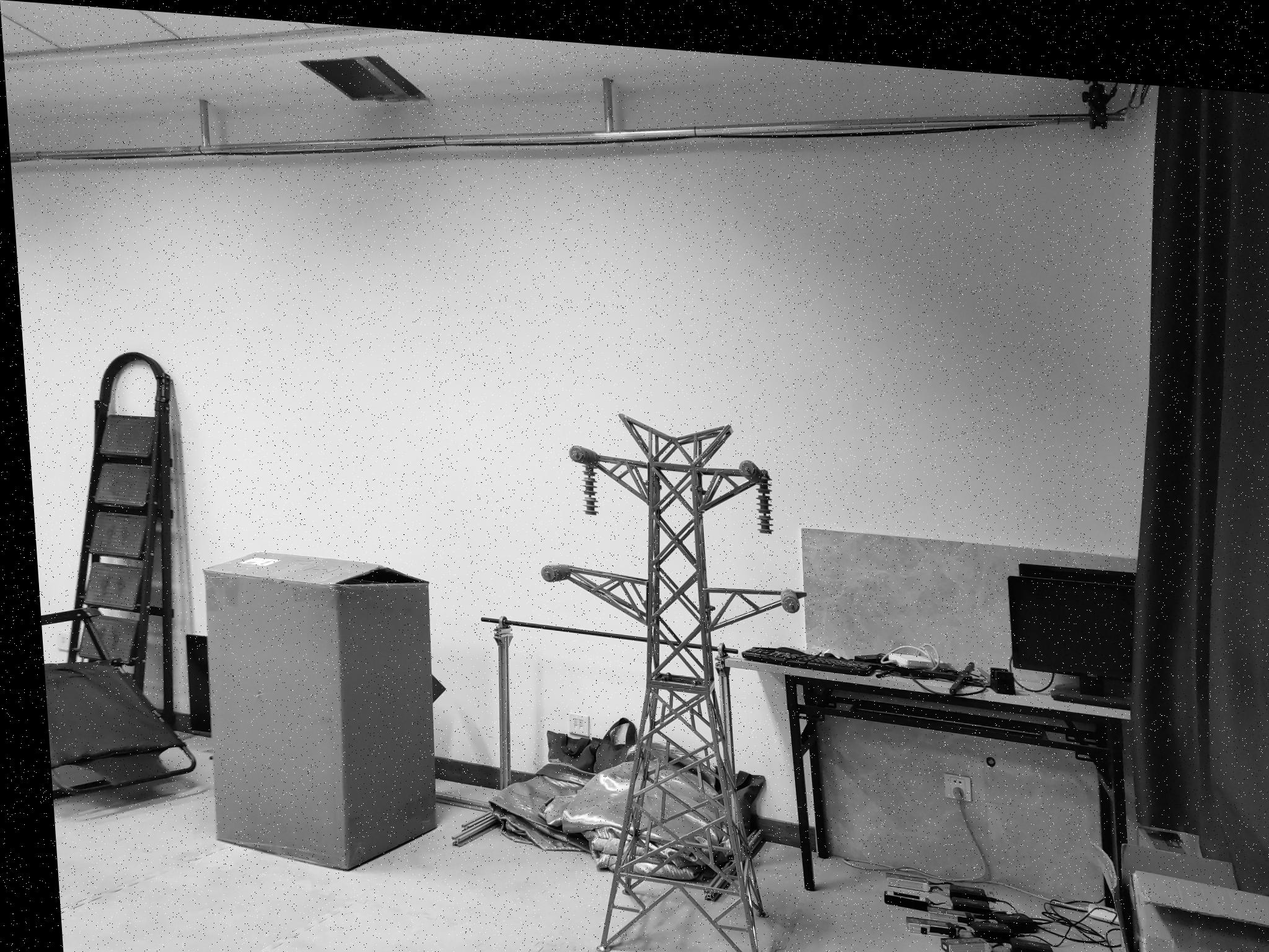tower: (535, 407, 827, 952)
